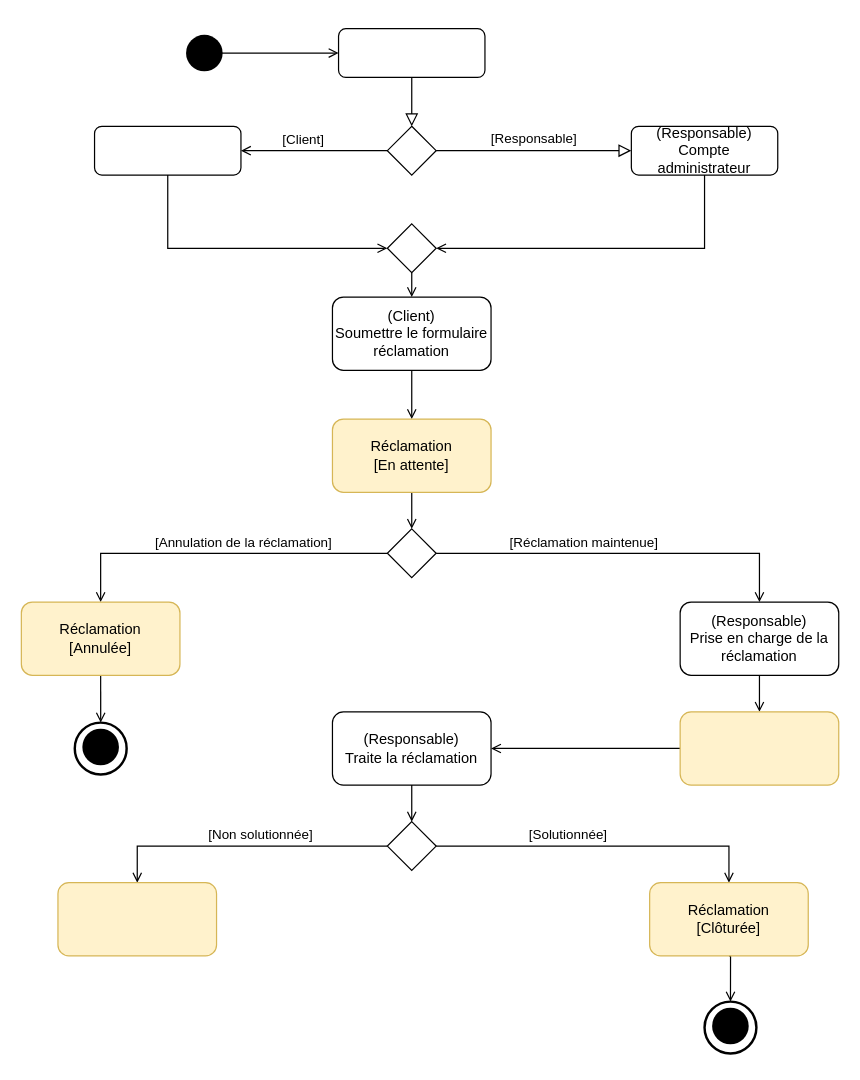
Some shapes in this 860 by 1080 pixel diagram are drawn without their labels. The centre of each missing label's shape, as x and y in pixels:
"(Proche d'un résident) Compte client" goes at (167,150).
"Réclamation [En cours de traitement]" goes at (759,748).
"Réclamation [Litige]" goes at (137,918).
"Vérifier le type d'utilisateur" goes at (411,52).
